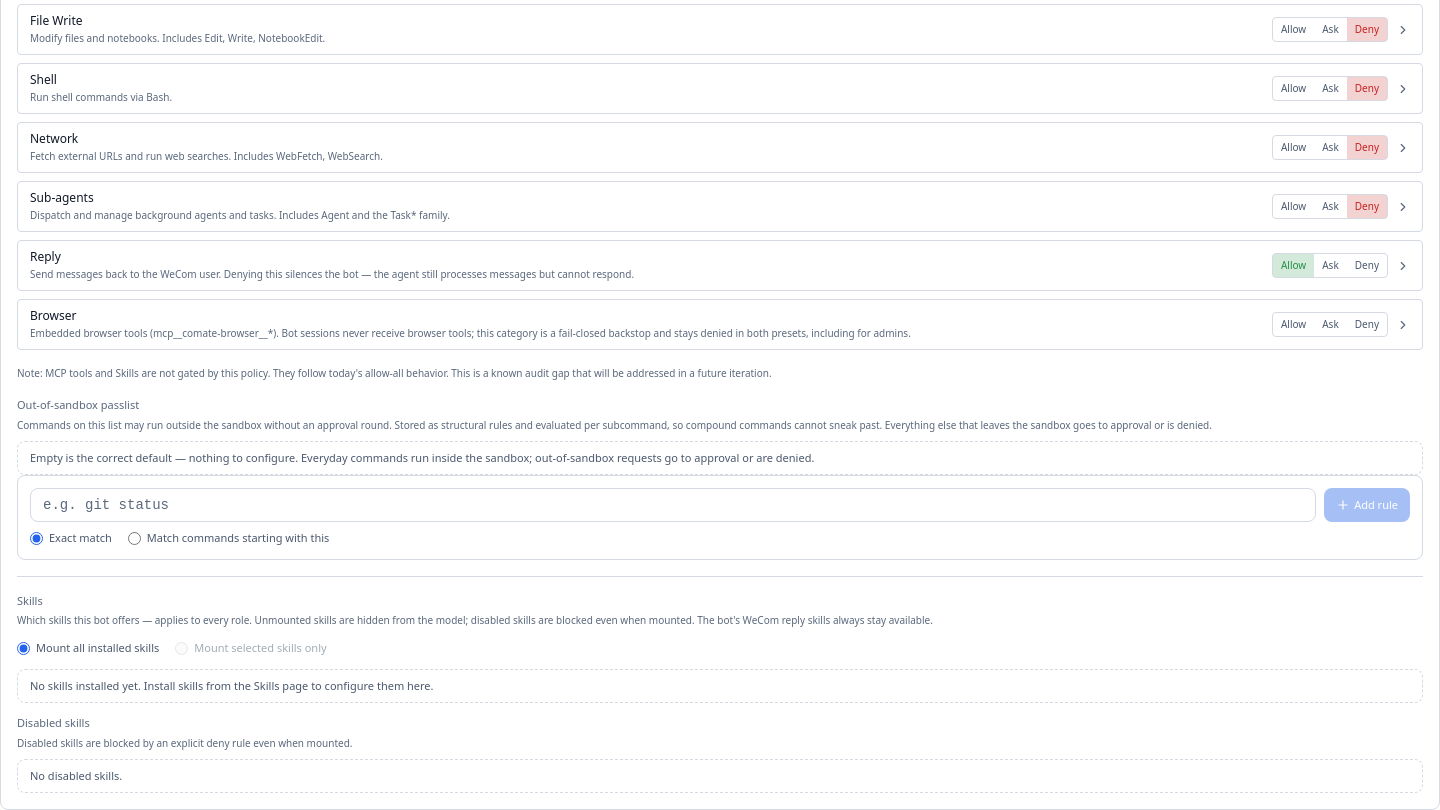
Test: BotRolePermissions › adds a rule with manual provenance and reports dirty state
The width and height of the screenshot is (1440, 810).
(page scrolled)
Type "git status" into the field with placeholder "e.g. git status" at (673, 505), box [30,488,1316,522]
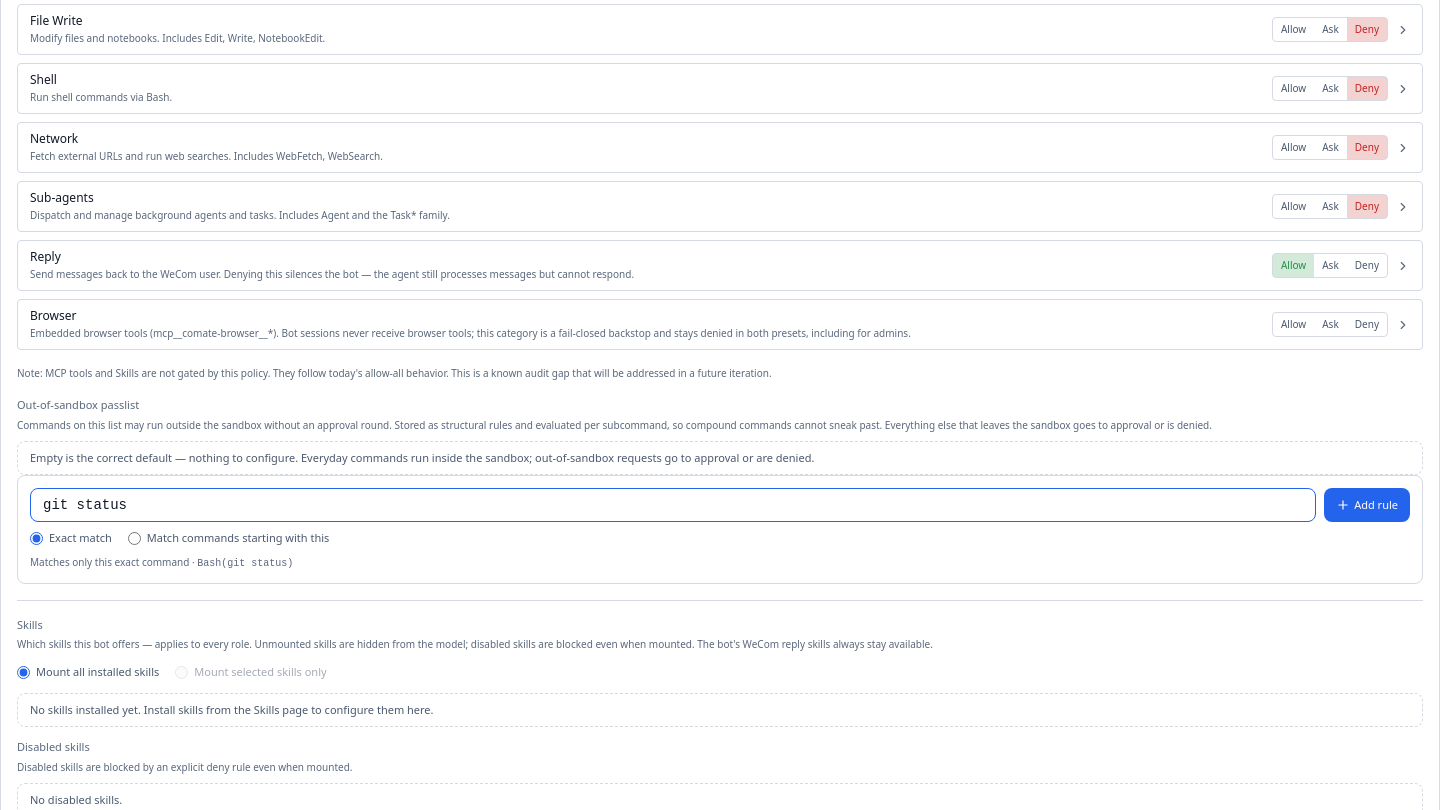
Click the button "Add rule" at (1367, 505), box [1324,488,1410,522]
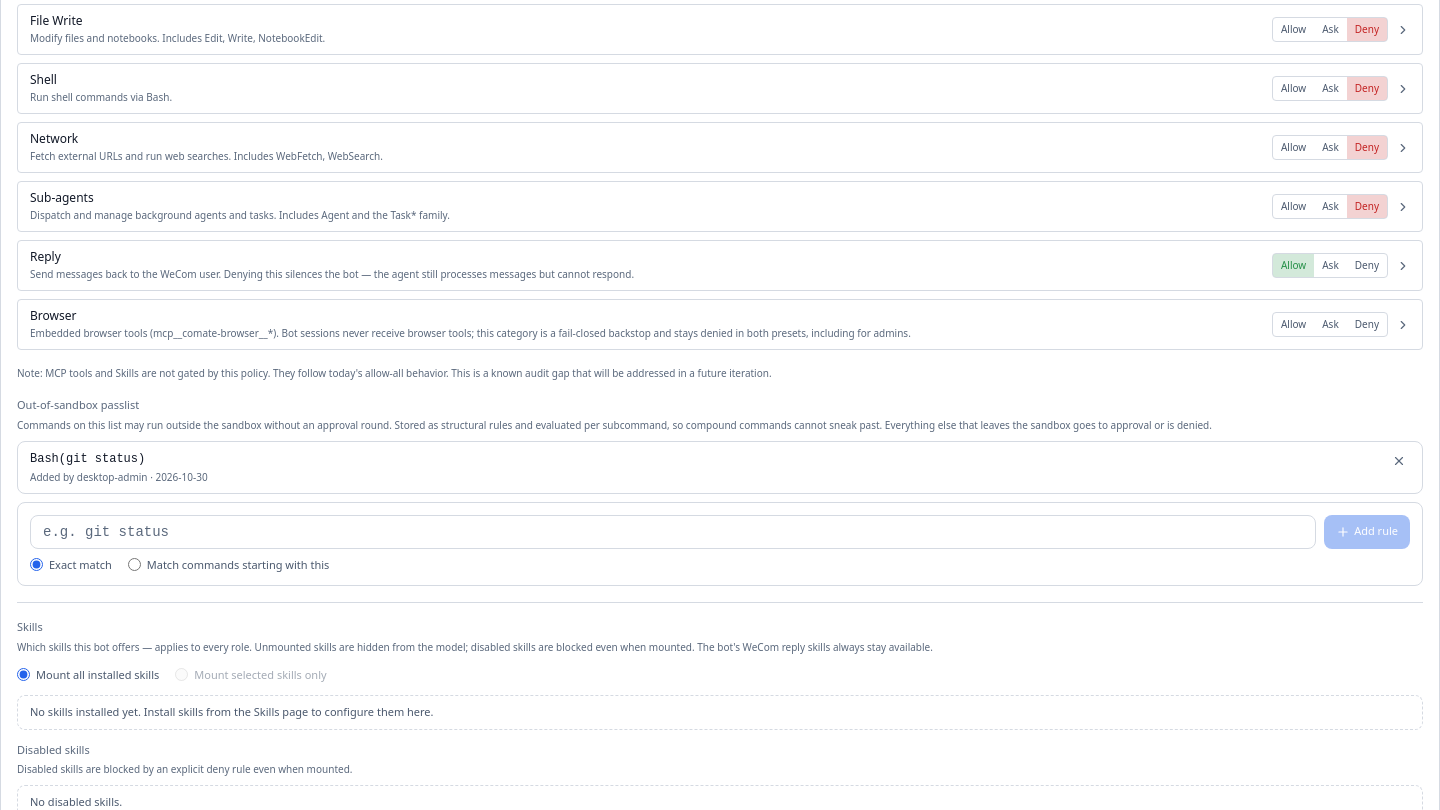
Now the text "Bash(git status)" is shown, box [30,452,145,466]
Now the text "Added by desktop-admin · 2026-10-30" is shown, box [30,470,208,484]
